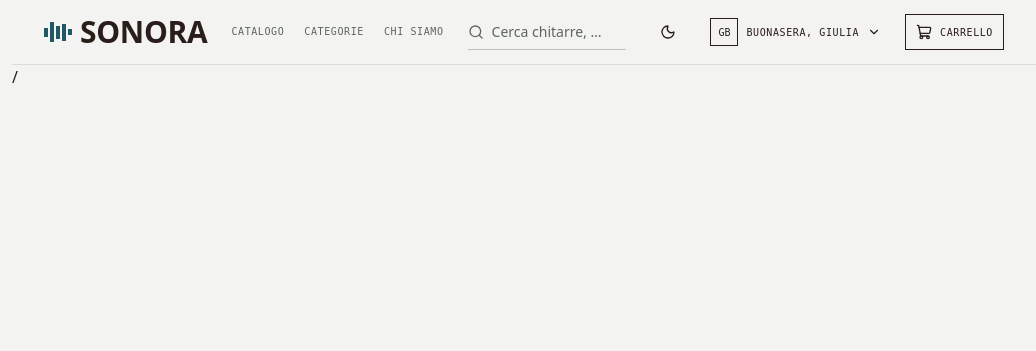
it: menu dell'account › porta alla sezione scelta e si chiude
Click the button with aria-label "Il mio account". click: (796, 32)
box: [710,14,881,50]
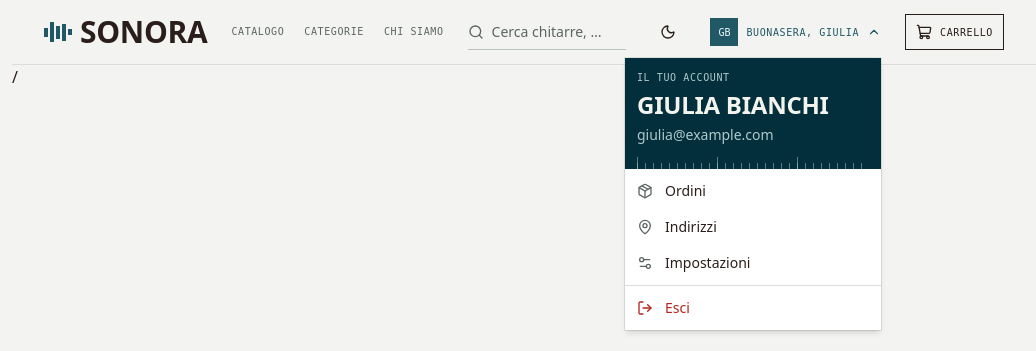
Click the menu item "Indirizzi". click: (677, 226)
box: [637,217,717,236]
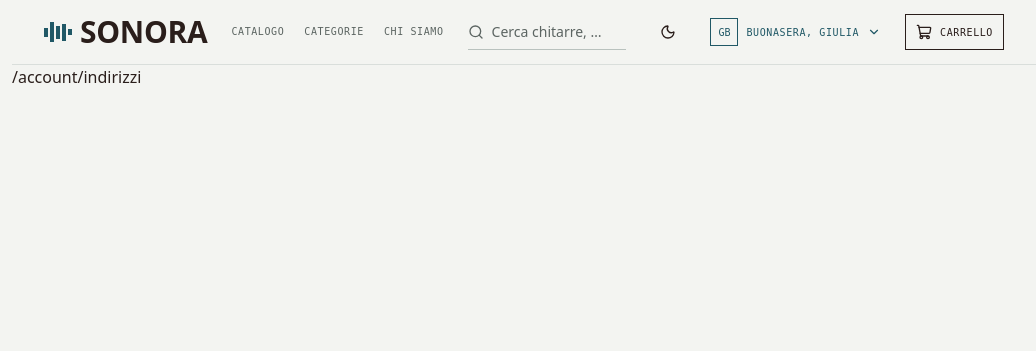
Expected: the text with test id "current-path" reads "/account/indirizzi", [12,66,141,88]
Expected: the menu is gone
